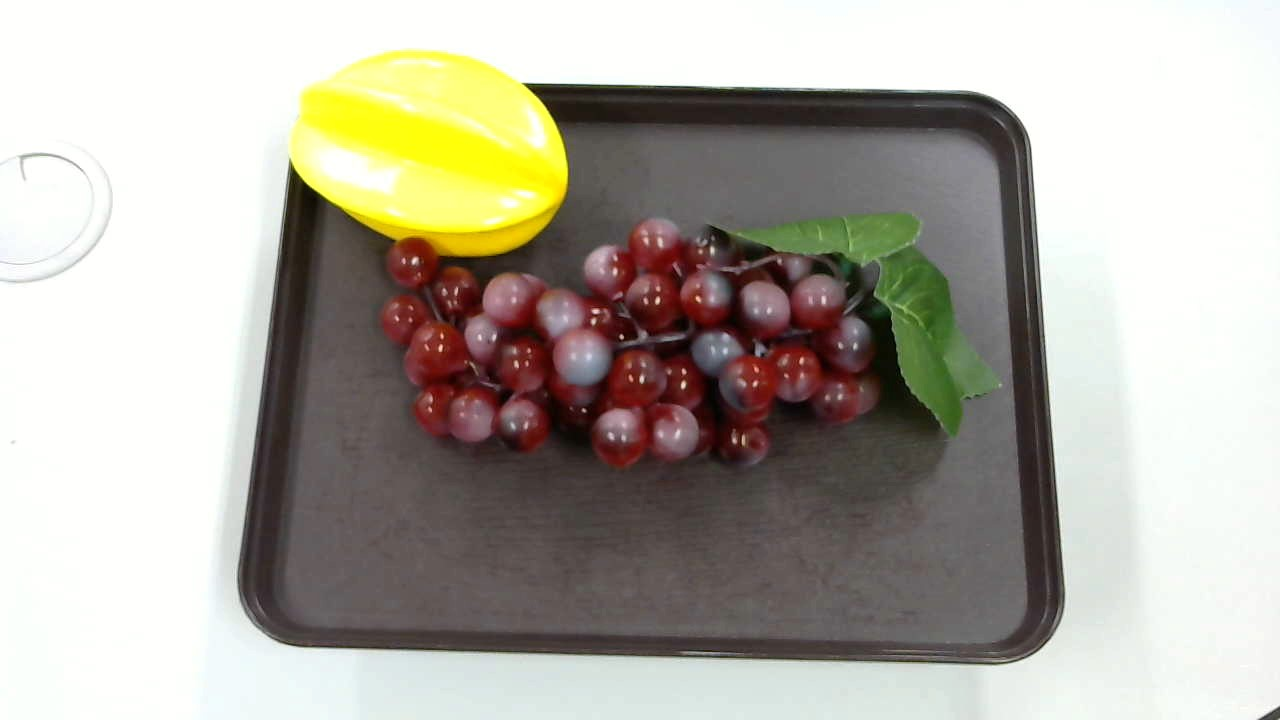grape: (374, 217, 1010, 478)
star fruit: (285, 54, 576, 266)
